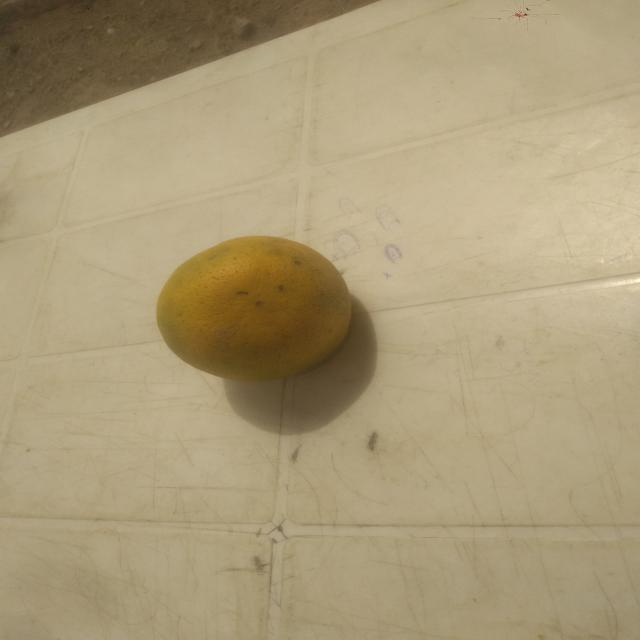Ripe orange: (146, 231, 357, 395)
